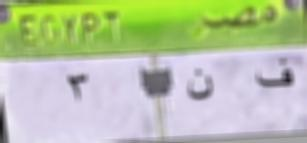3: (61, 67, 98, 108)
faa: (252, 55, 297, 93)
noon: (184, 65, 218, 109)
